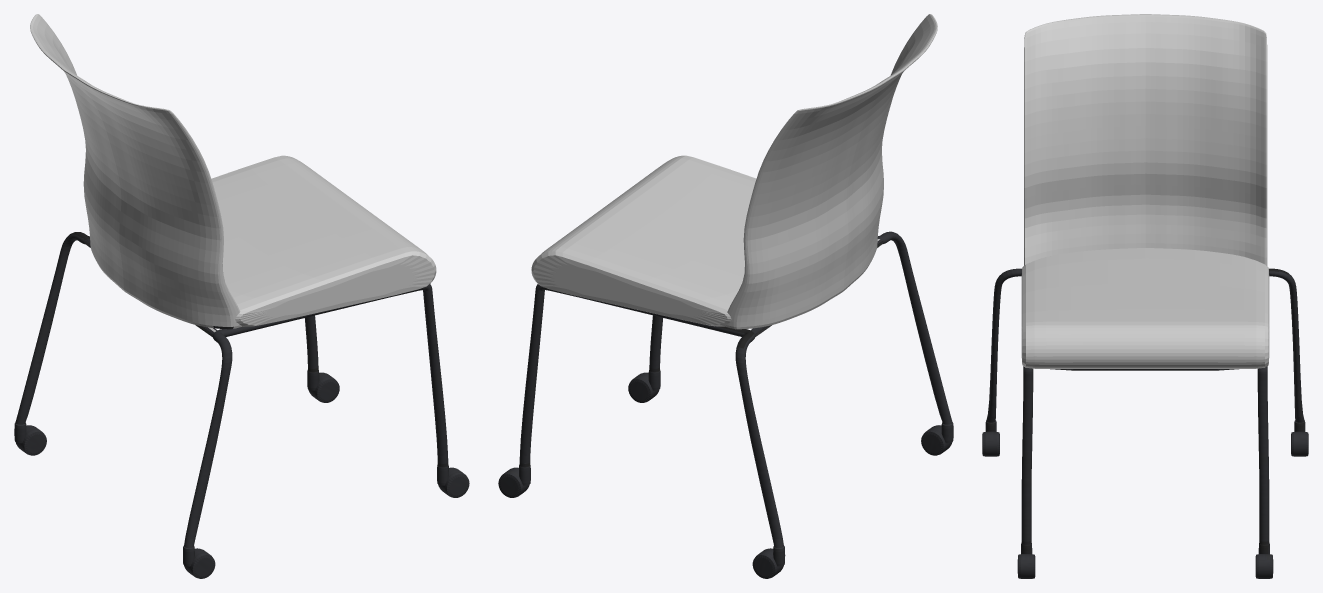
File: Chair2.fbx
The picture shows the model from 3 angles, left to right: view 1: azimuth 30°, elevation 25°; view 2: azimuth 150°, elevation 25°; view 3: azimuth 270°, elevation 25°; orthographic projection. The views are drawn at different scales.
Parts seen in each view (by area): view 1: wheels; view 2: wheels; view 3: wheels.
Part boxes in pixels (box(x1,y1,x2,y2)): wheels: box(14, 14, 469, 578); wheels: box(498, 14, 953, 578); wheels: box(982, 14, 1308, 578).
Size of the model in its own units: 48.03 by 62.31 by 44.
